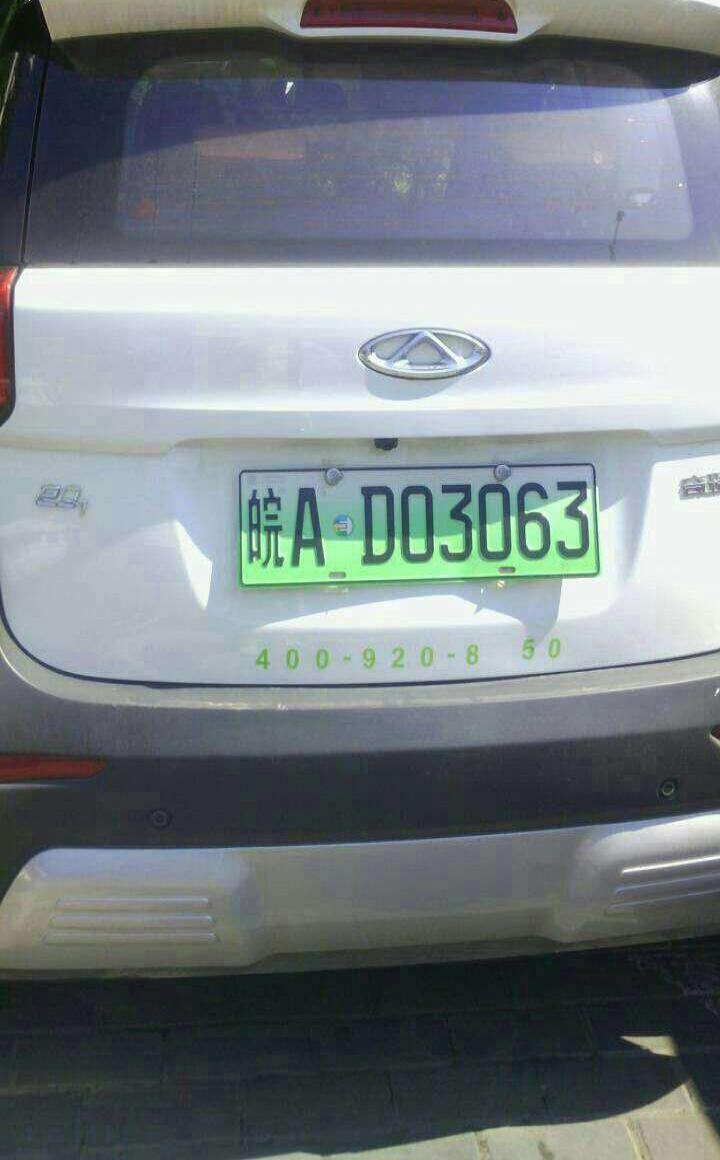car_id: (239, 462, 601, 582)
